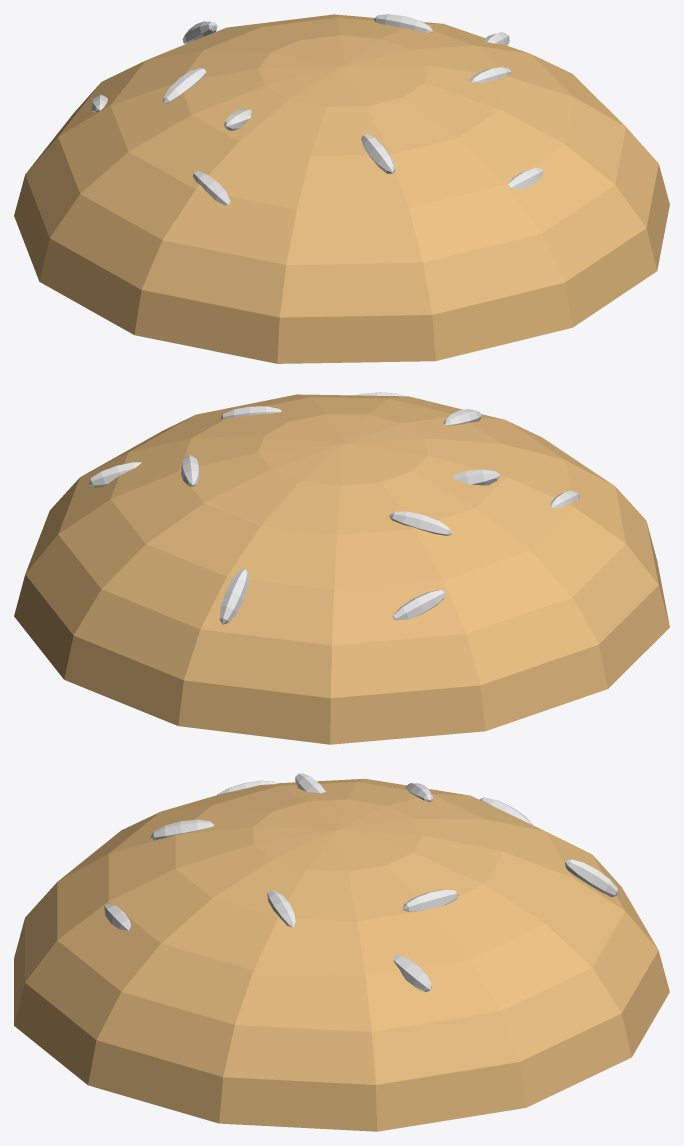
File: Bun Top.fbx
3 renders of one model, top to bottom at view 1: azimuth 30°, elevation 25°; view 2: azimuth 150°, elevation 25°; view 3: azimuth 270°, elevation 25°, orthographic.
Visible parts, largest first — view 1: Top Bun; view 2: Top Bun; view 3: Top Bun.
Boxes of the visible parts, x1=… form: Top Bun: x1=14, y1=14, x2=669, y2=363; Top Bun: x1=14, y1=392, x2=669, y2=744; Top Bun: x1=14, y1=773, x2=669, y2=1131.
Bounding box in the file's own units: 199 × 53.73 × 197.
